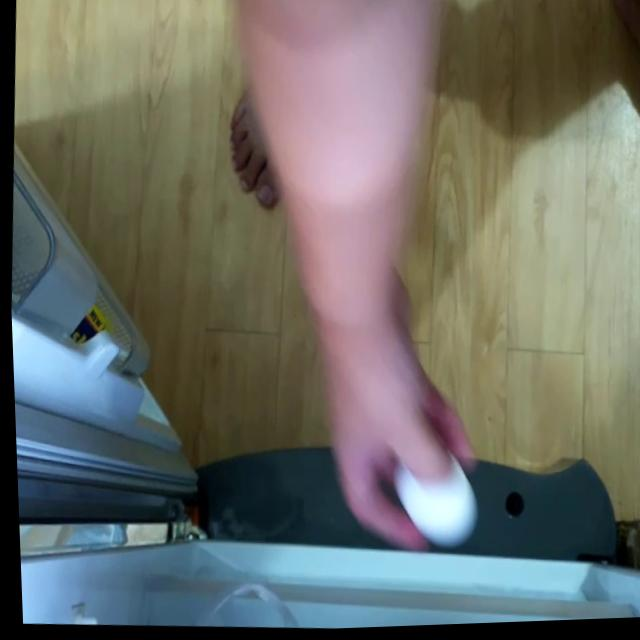egg: (383, 452, 481, 557)
